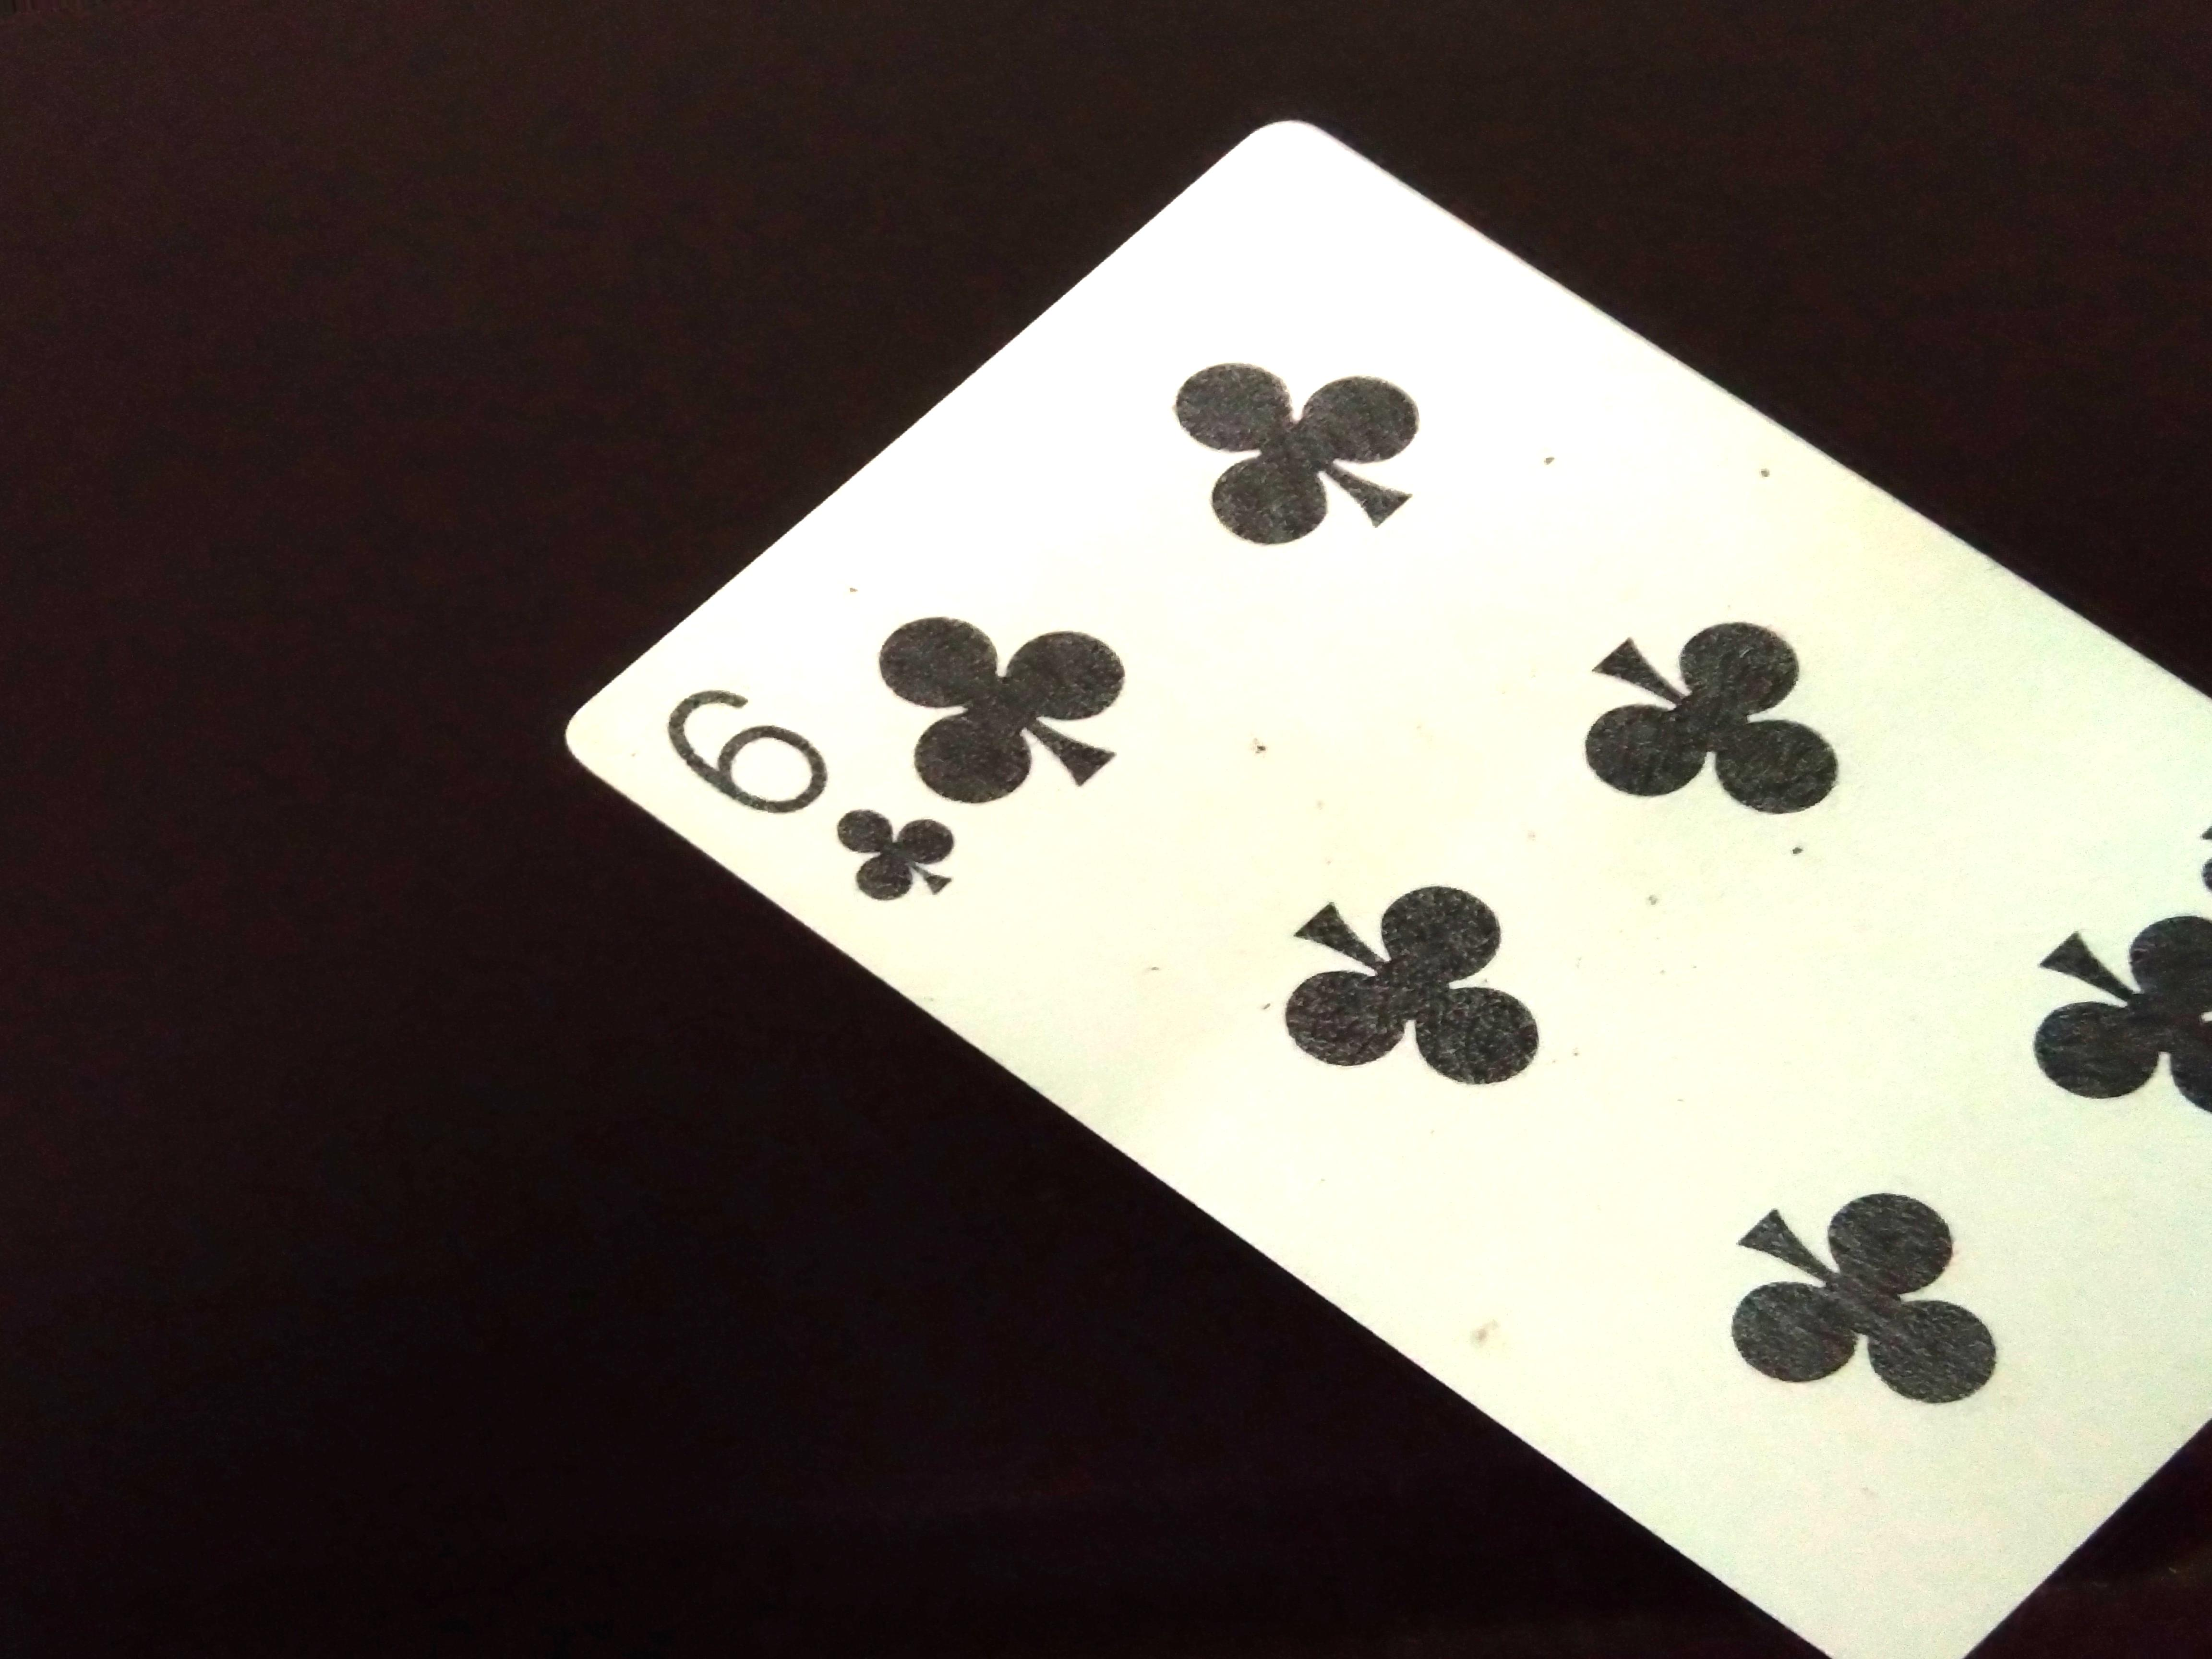6C: (643, 678, 982, 953)
